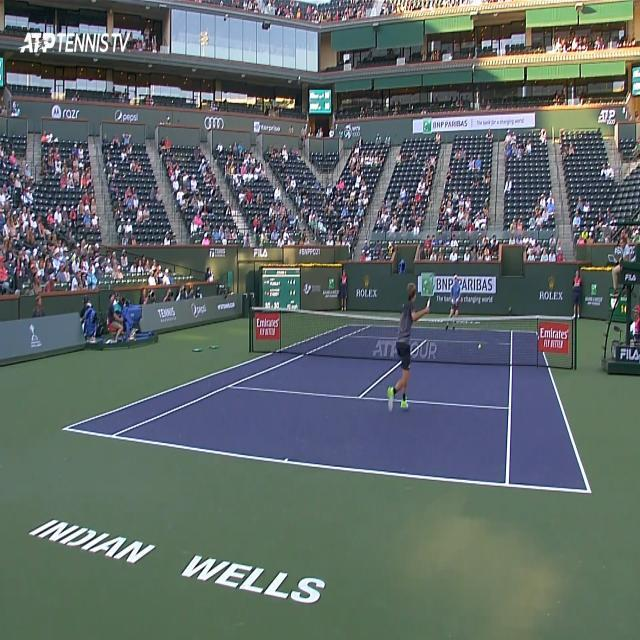court: (62, 323, 593, 494)
net: (248, 304, 578, 366)
player: (386, 271, 436, 412)
